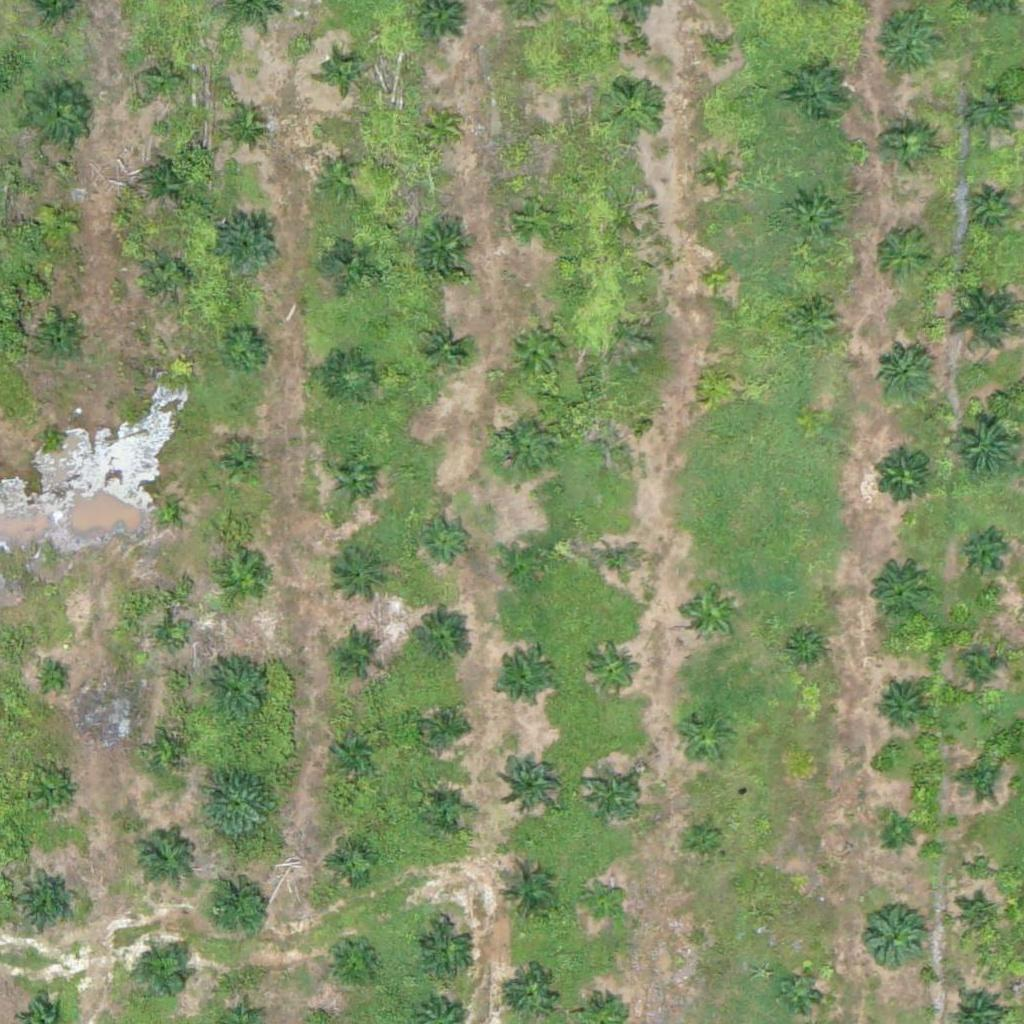Kelapa_Sawit: (197, 651, 272, 727), (201, 869, 276, 945), (201, 765, 276, 841), (947, 406, 1022, 481), (861, 902, 924, 965), (130, 824, 193, 887), (672, 706, 735, 769), (415, 920, 478, 983), (870, 224, 933, 287), (875, 17, 938, 80), (873, 341, 936, 404), (15, 870, 78, 933), (331, 544, 394, 607), (489, 415, 552, 478), (788, 60, 851, 123), (679, 583, 742, 646), (218, 213, 281, 276), (784, 190, 847, 253), (133, 48, 196, 111), (410, 613, 473, 676), (494, 651, 556, 714), (495, 864, 557, 927), (582, 765, 644, 828), (498, 748, 560, 811), (867, 561, 929, 624), (871, 444, 933, 507), (26, 86, 88, 149), (413, 217, 475, 280), (507, 318, 569, 381), (603, 78, 665, 141), (588, 644, 638, 695), (873, 682, 923, 733), (950, 752, 1000, 803), (325, 352, 375, 403), (323, 234, 373, 285), (143, 156, 193, 207), (219, 99, 269, 150), (144, 250, 194, 301), (32, 196, 82, 247), (220, 323, 270, 374), (418, 323, 468, 374), (592, 538, 642, 589), (504, 536, 554, 587), (422, 513, 472, 564), (330, 455, 380, 506), (141, 949, 191, 999), (327, 932, 377, 982), (326, 836, 376, 886), (508, 967, 558, 1017), (882, 123, 932, 173), (954, 532, 1004, 582), (219, 557, 269, 607), (787, 291, 837, 341), (951, 895, 1001, 945), (955, 646, 1005, 696), (513, 194, 563, 244), (316, 154, 366, 204), (38, 317, 88, 367), (420, 702, 470, 752), (422, 786, 472, 836), (328, 722, 378, 772), (333, 627, 383, 677), (215, 440, 265, 490), (963, 184, 1012, 235), (700, 35, 738, 73), (698, 154, 736, 192), (700, 261, 738, 299), (696, 361, 734, 399), (422, 108, 460, 146), (325, 53, 363, 91), (787, 632, 825, 670), (583, 884, 621, 922), (37, 778, 74, 816), (973, 93, 1010, 131), (878, 815, 915, 853), (520, 115, 557, 153), (603, 413, 640, 451), (686, 821, 723, 858), (781, 971, 818, 1008), (159, 742, 184, 768), (152, 497, 177, 522), (157, 625, 182, 650), (40, 668, 65, 693), (40, 424, 65, 449)
